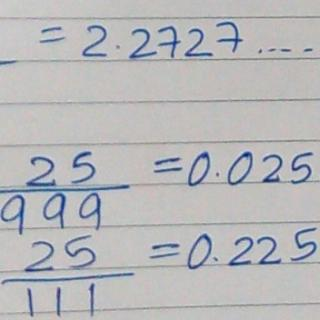.: (115, 42, 121, 50)
0: (186, 150, 211, 188)
1: (86, 280, 100, 317)
2: (22, 152, 60, 188), (80, 21, 108, 58), (261, 151, 282, 183)
5: (70, 147, 102, 184), (291, 225, 320, 263)
7: (156, 20, 181, 61)
9: (75, 192, 109, 231), (41, 192, 68, 231)
